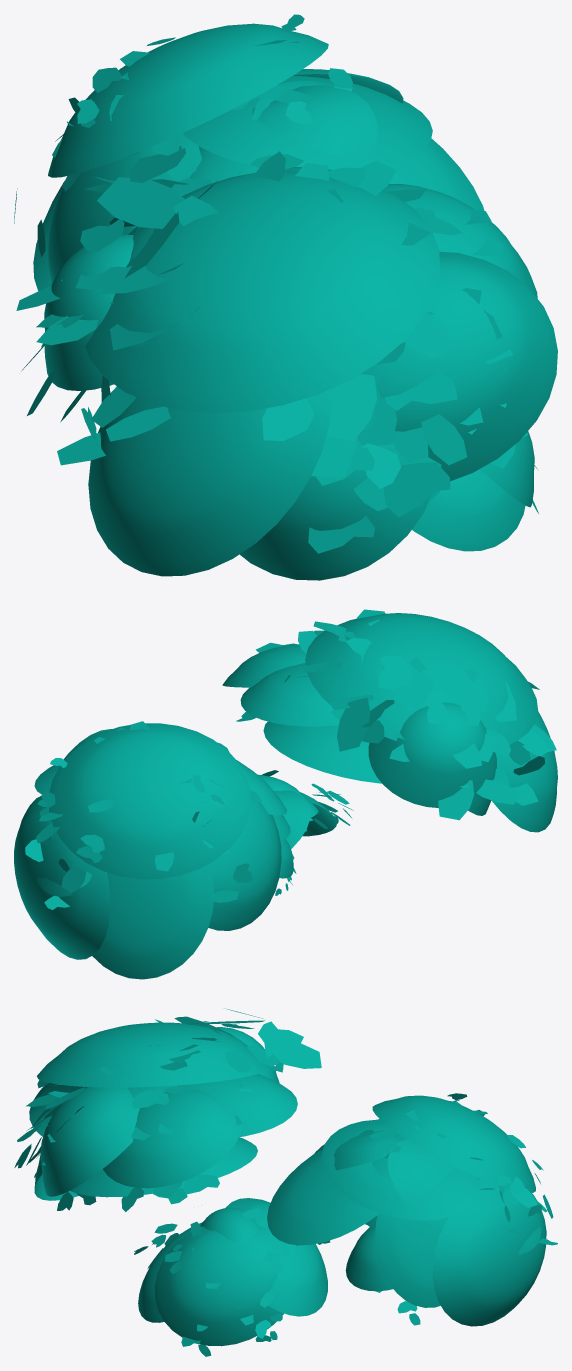
The model's file is SM_LeafBushv3.fbx.
The picture shows the model from 3 angles, top to bottom: view 1: azimuth 30°, elevation 25°; view 2: azimuth 150°, elevation 25°; view 3: azimuth 270°, elevation 25°; orthographic projection. The views are drawn at different scales.
Visible parts, largest first — view 1: Object001; view 2: Object001; view 3: Object001.
Part boxes in pixels (bbox=[...]): Object001: bbox=[14, 14, 557, 580]; Object001: bbox=[14, 609, 557, 979]; Object001: bbox=[14, 1008, 557, 1356].
Size of the model in its own units: 393 by 270 by 523.
